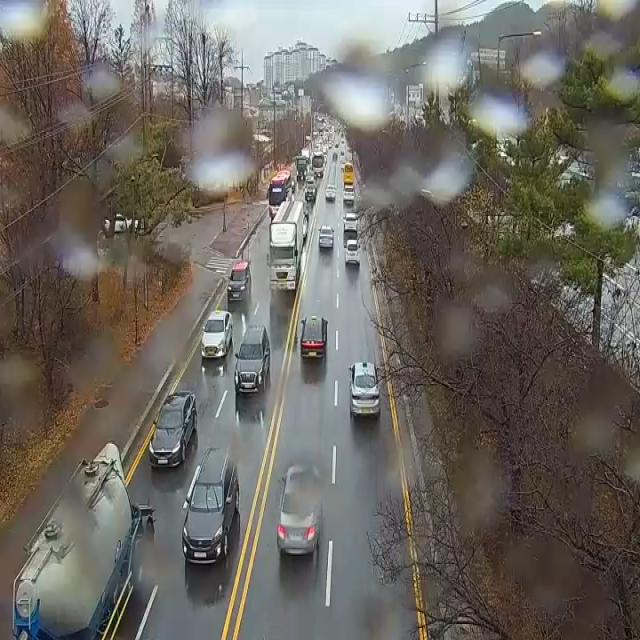Bus: (266, 169, 291, 218), (343, 163, 354, 183)
Car: (182, 449, 240, 564), (278, 465, 322, 555), (149, 391, 197, 468), (235, 326, 270, 396), (348, 363, 379, 415), (201, 310, 232, 358), (301, 316, 328, 358), (227, 261, 251, 301), (104, 214, 138, 232), (344, 240, 360, 264), (294, 157, 308, 180), (319, 226, 334, 247), (343, 213, 358, 232), (301, 150, 312, 174), (305, 180, 316, 202), (343, 185, 354, 201), (326, 185, 336, 199), (303, 214, 308, 239), (333, 152, 337, 160)
Truck: (12, 442, 155, 640), (267, 202, 303, 290), (312, 152, 324, 177)
